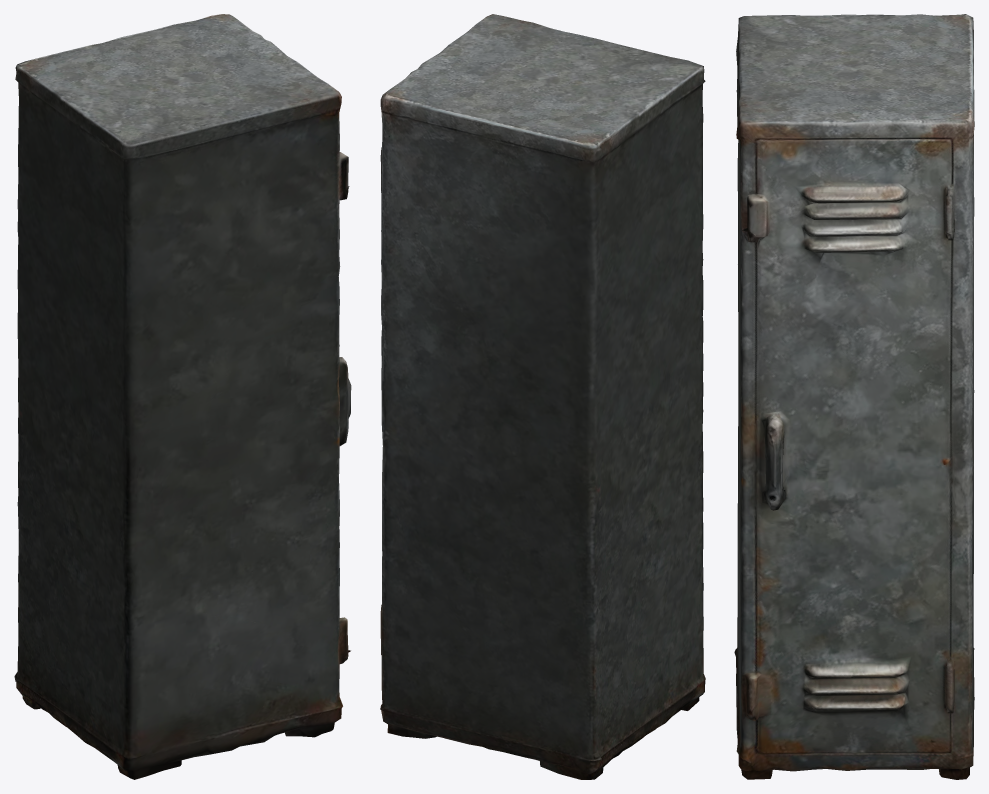
The model's file is worker-locker.glb.
3 views of the same model, side by side, from view 1: azimuth 30°, elevation 25°; view 2: azimuth 150°, elevation 25°; view 3: azimuth 270°, elevation 25° (orthographic). The views are drawn at different scales.
Visible parts, largest first — view 1: tripo_node_4fc89f9b-bf80-453e-bacf-8014ec6f8ec4; view 2: tripo_node_4fc89f9b-bf80-453e-bacf-8014ec6f8ec4; view 3: tripo_node_4fc89f9b-bf80-453e-bacf-8014ec6f8ec4.
Boxes of the visible parts, x1,y1,x2,y2 form: tripo_node_4fc89f9b-bf80-453e-bacf-8014ec6f8ec4: (14,14,351,779); tripo_node_4fc89f9b-bf80-453e-bacf-8014ec6f8ec4: (380,14,705,779); tripo_node_4fc89f9b-bf80-453e-bacf-8014ec6f8ec4: (734,14,974,779).
Bounding box in the file's own units: 0.4001 × 1 × 0.3291.
1 material, 1 textured.
